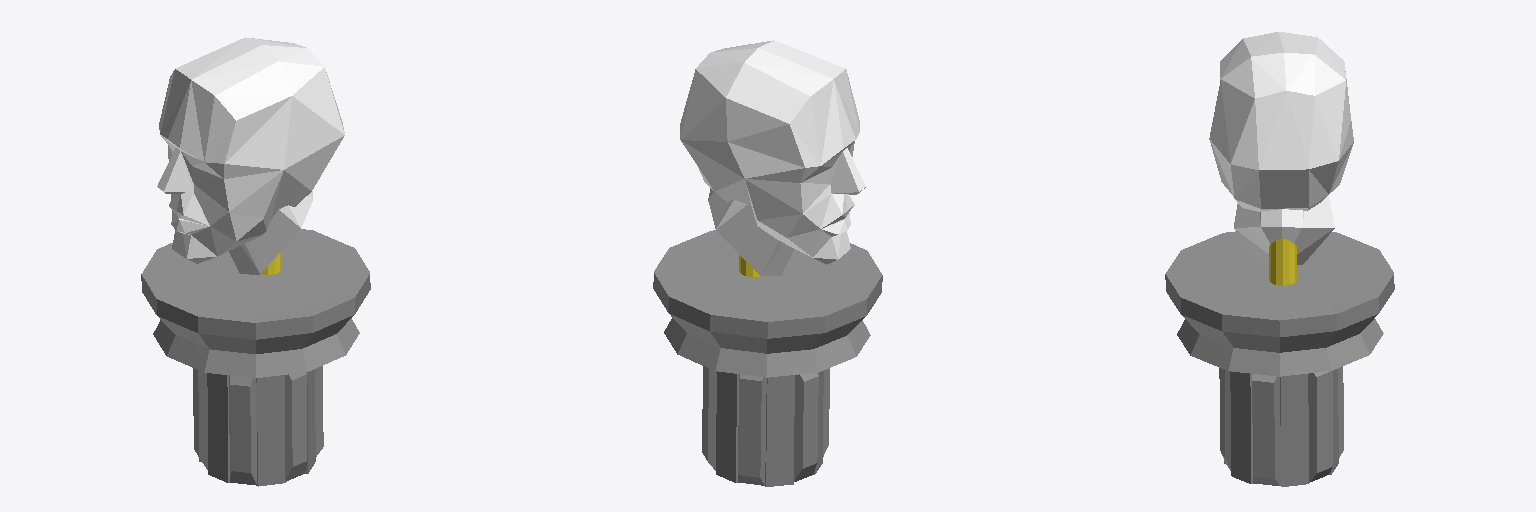
The model's file is art.obj.
The picture shows the model from 3 angles: view 1: azimuth 30°, elevation 25°; view 2: azimuth 150°, elevation 25°; view 3: azimuth 270°, elevation 25°; orthographic projection.
Visible parts, largest first — view 1: model.004; view 2: model.004; view 3: model.004.
Part boxes in pixels (x1,y1,x2,y2): model.004: (141, 37, 370, 486); model.004: (653, 40, 882, 486); model.004: (1165, 32, 1394, 486).
Bounding box in the file's own units: 0.9363 × 1.87 × 0.9358.